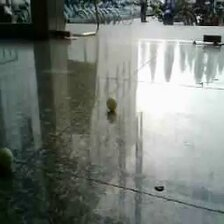w: (1, 146, 14, 170), (105, 96, 119, 110)
